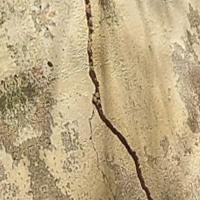crack: (73, 0, 167, 199)
